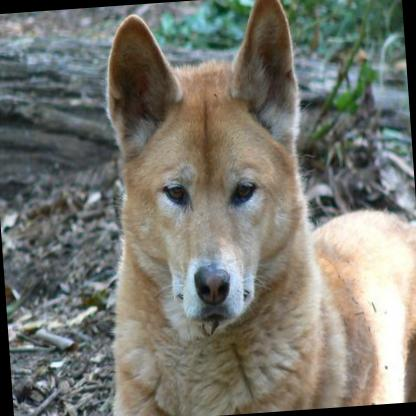dingo: (85, 0, 416, 416)
